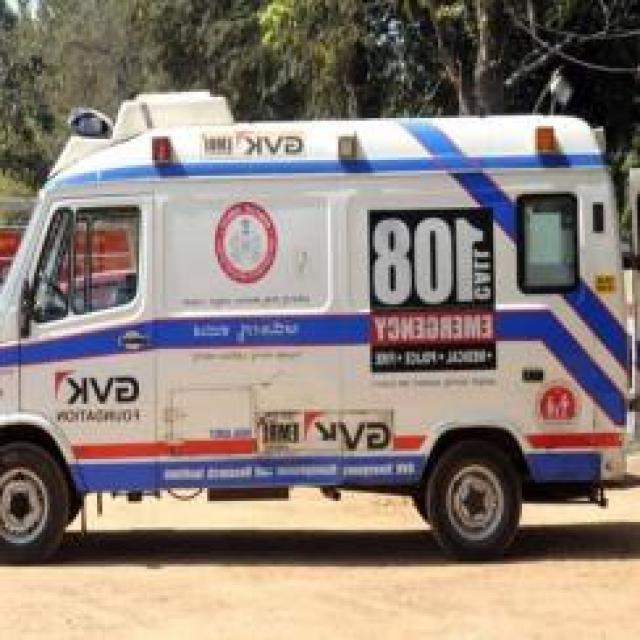Ambulance: (0, 84, 637, 569), (0, 427, 637, 637)
